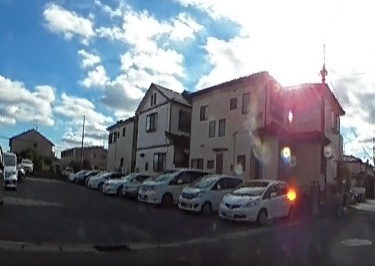person: (337, 173, 349, 207)
